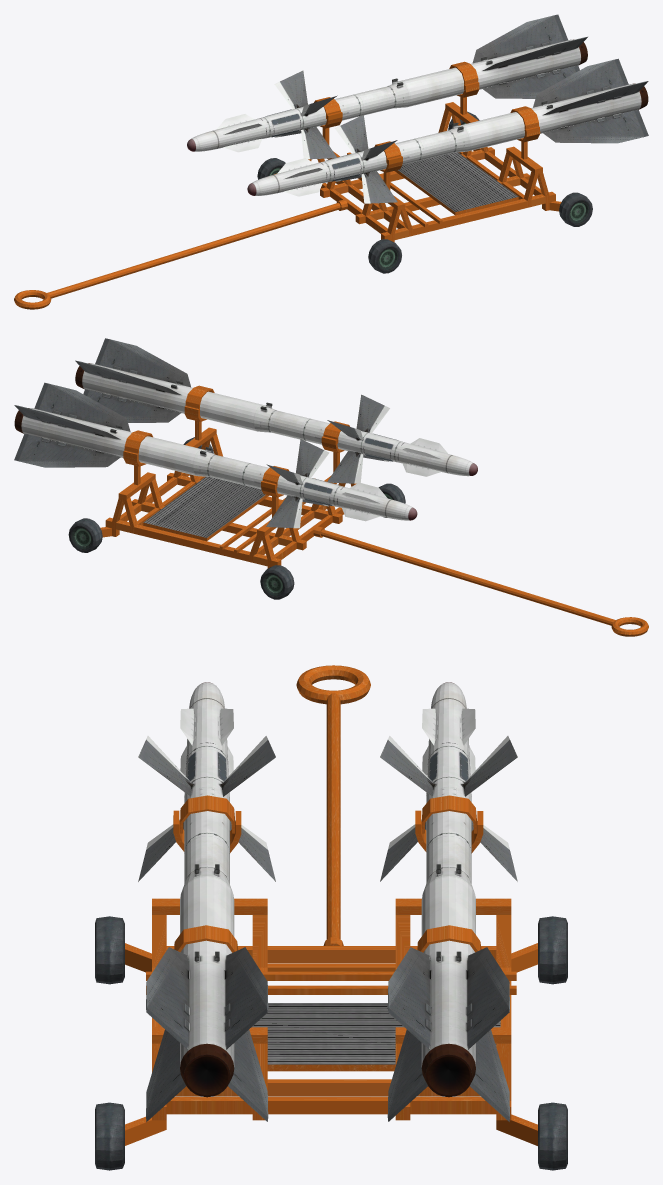
File: missile_cart_r27.obj
3 renders of one model, top to bottom at view 1: azimuth 30°, elevation 25°; view 2: azimuth 150°, elevation 25°; view 3: azimuth 270°, elevation 25°, orthographic. The views are drawn at different scales.
Parts seen in each view (by area): view 1: Object_2, Object_3; view 2: Object_2, Object_3; view 3: Object_2, Object_3.
Boxes of the visible parts, x1=… form: Object_2: x1=187, y1=14, x2=648, y2=203; Object_3: x1=14, y1=61, x2=592, y2=309; Object_2: x1=14, y1=338, x2=477, y2=528; Object_3: x1=68, y1=385, x2=648, y2=636; Object_2: x1=138, y1=682, x2=517, y2=1121; Object_3: x1=95, y1=665, x2=567, y2=1170.
Size of the model in its own units: 5.85 by 1.15 by 2.02.
Materials: 2 (2 with a texture image).
